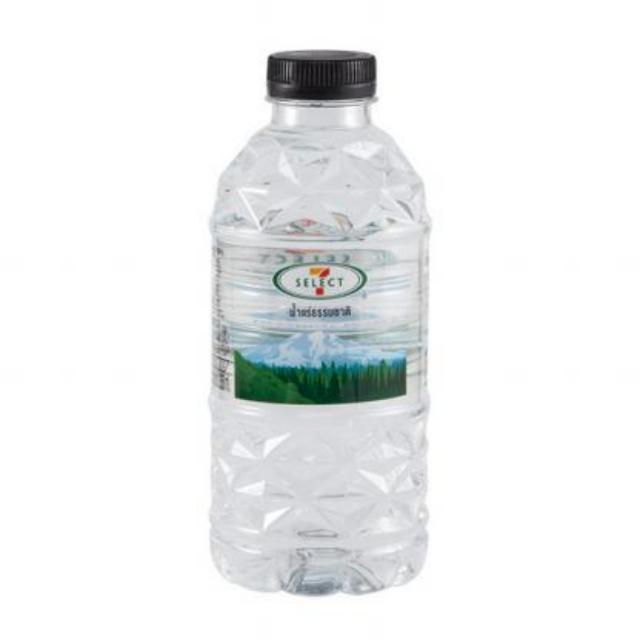plastic: (188, 33, 442, 603)
